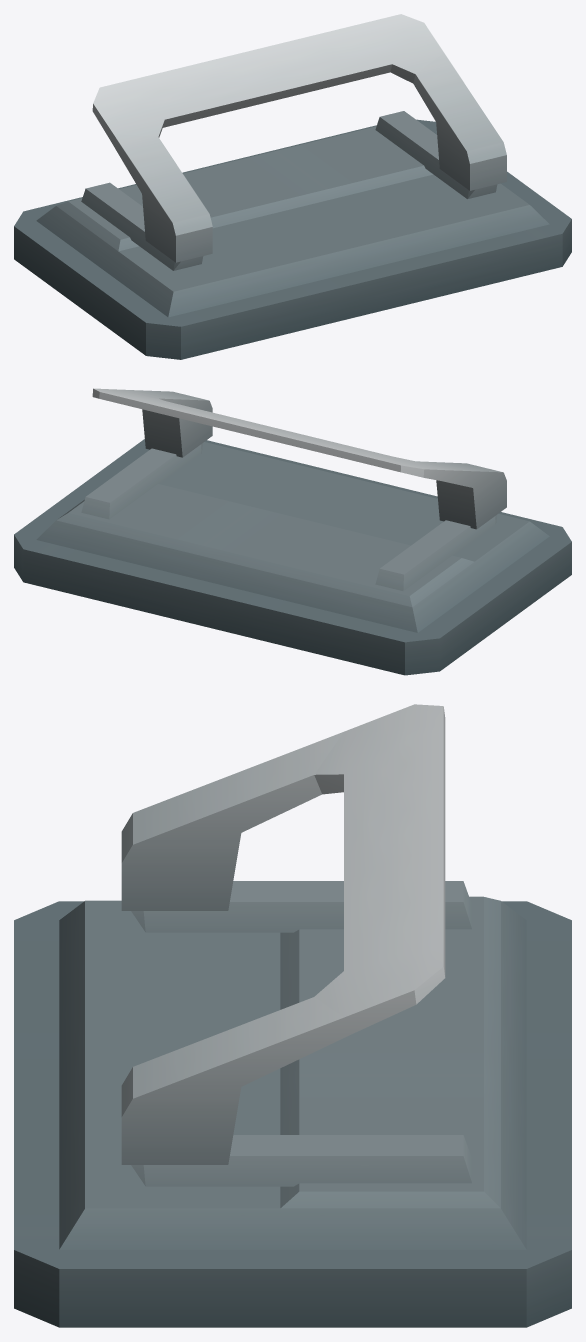
File: HolePunch.fbx
The picture shows the model from 3 angles, top to bottom: view 1: azimuth 30°, elevation 25°; view 2: azimuth 150°, elevation 25°; view 3: azimuth 270°, elevation 25°; orthographic projection. The views are drawn at different scales.
Visible parts, largest first — view 1: HolePunch; view 2: HolePunch; view 3: HolePunch.
Part boxes in pixels (x1,y1,x2,y2): HolePunch: (14,14,571,359); HolePunch: (14,388,571,675); HolePunch: (14,704,571,1327).
Bounding box in the file's own units: 13.45 × 5.24 × 8.63.
